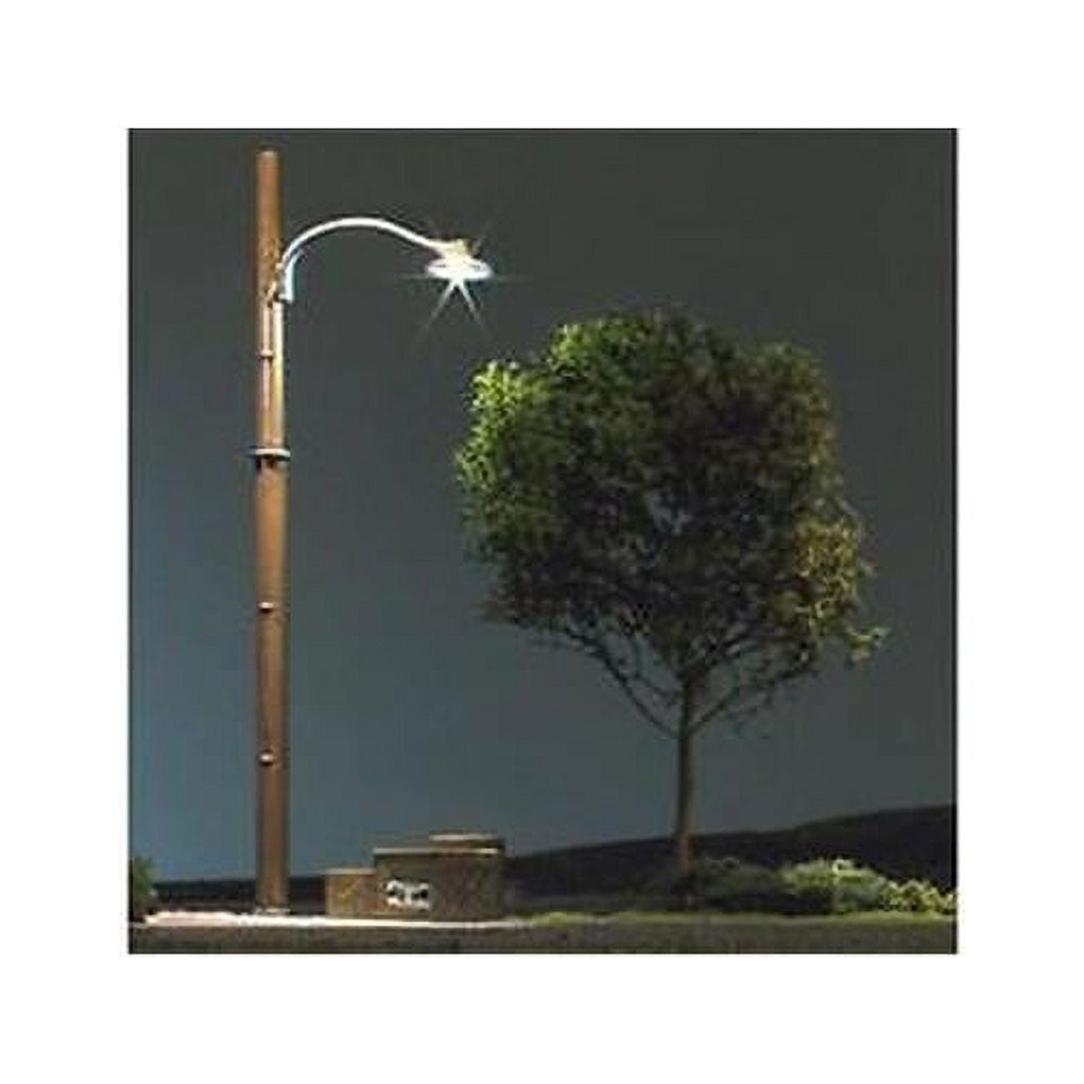light_pole: (231, 138, 308, 927)
